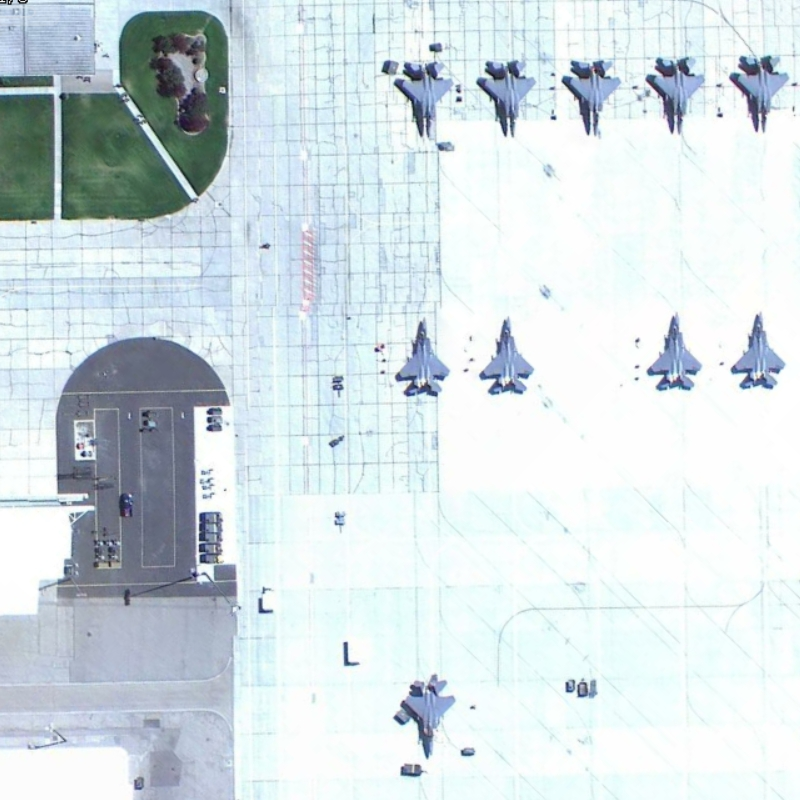A13: (725, 41, 796, 136), (393, 46, 459, 144), (641, 49, 712, 139), (557, 50, 626, 141), (393, 670, 460, 763), (473, 53, 542, 143), (474, 311, 542, 400), (724, 307, 790, 397), (387, 312, 454, 400), (642, 307, 705, 393)
